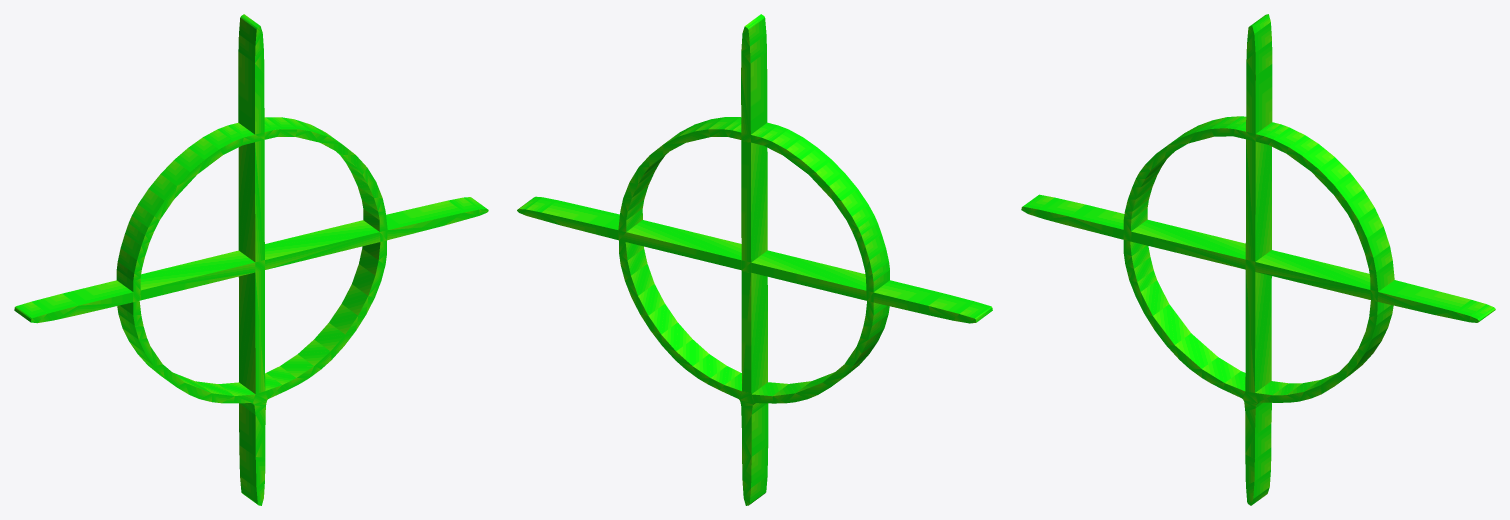
File: cross.obj
3 renders of one model, left to right at view 1: azimuth 30°, elevation 25°; view 2: azimuth 150°, elevation 25°; view 3: azimuth 330°, elevation 25°, orthographic.
Visible parts, largest first — view 1: PNGPIXCOMCrosshairPNGTransparentImage1; view 2: PNGPIXCOMCrosshairPNGTransparentImage1; view 3: PNGPIXCOMCrosshairPNGTransparentImage1.
Boxes of the visible parts, box(x1,y1,x2,y2) form: PNGPIXCOMCrosshairPNGTransparentImage1: box(14, 14, 488, 505); PNGPIXCOMCrosshairPNGTransparentImage1: box(517, 14, 992, 505); PNGPIXCOMCrosshairPNGTransparentImage1: box(1021, 14, 1495, 505).
Bounding box in the file's own units: 0.1337 × 0.1338 × 0.00896.
1 material, 1 textured.
